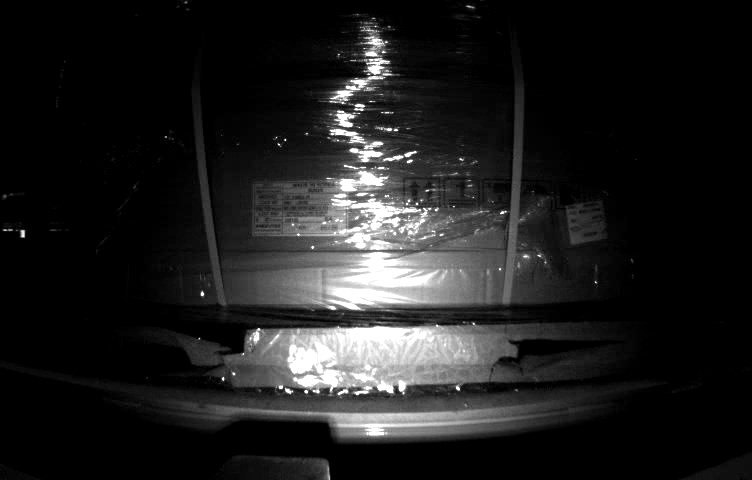True Barcode: (564, 199, 607, 244)
